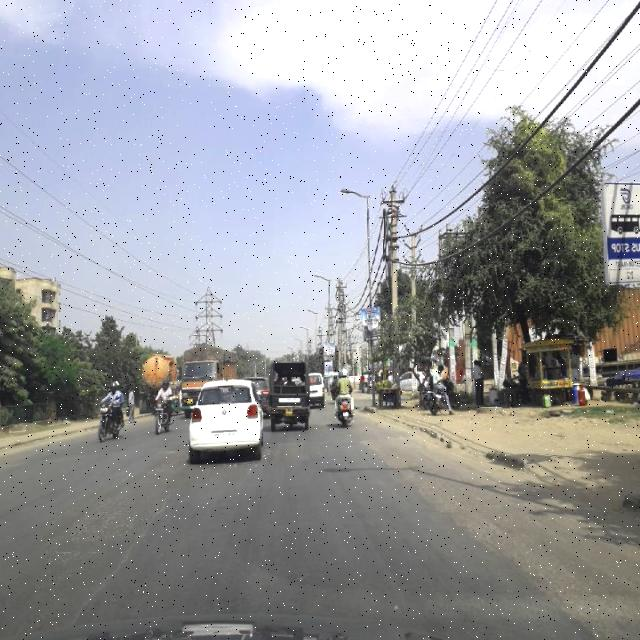D00: (130, 477, 180, 552), (81, 552, 131, 627)
D20: (51, 479, 143, 550)
